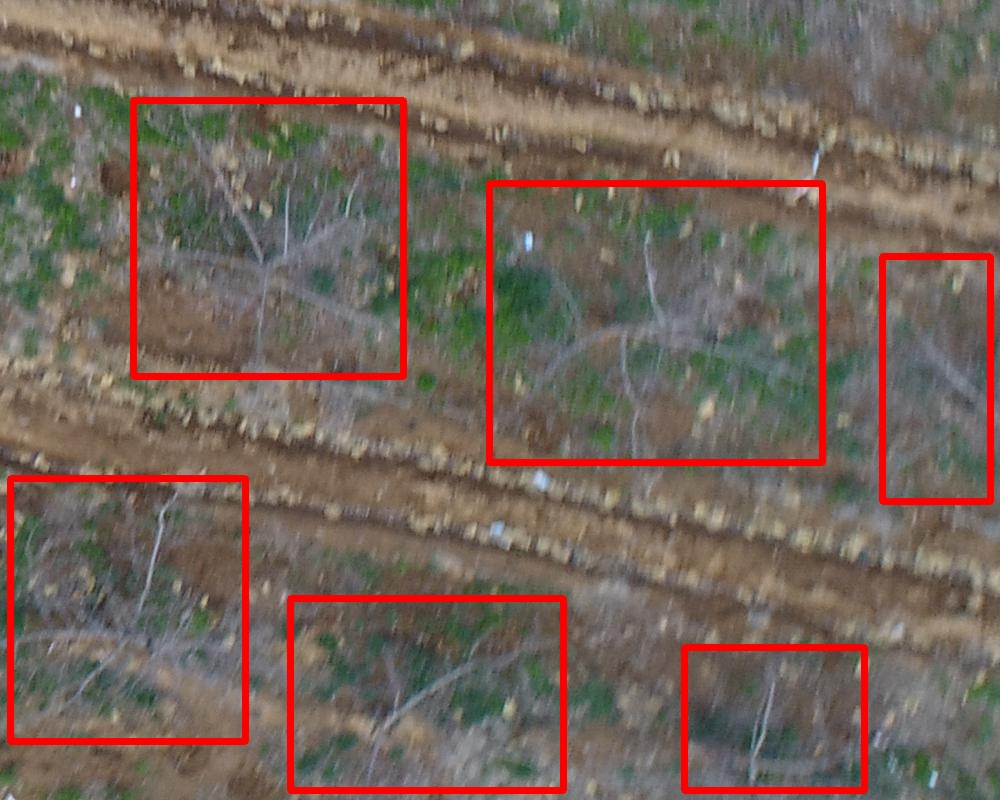apple: (489, 183, 822, 462), (133, 100, 403, 376), (10, 478, 245, 741), (290, 598, 563, 790), (882, 256, 990, 501), (684, 647, 864, 790)
